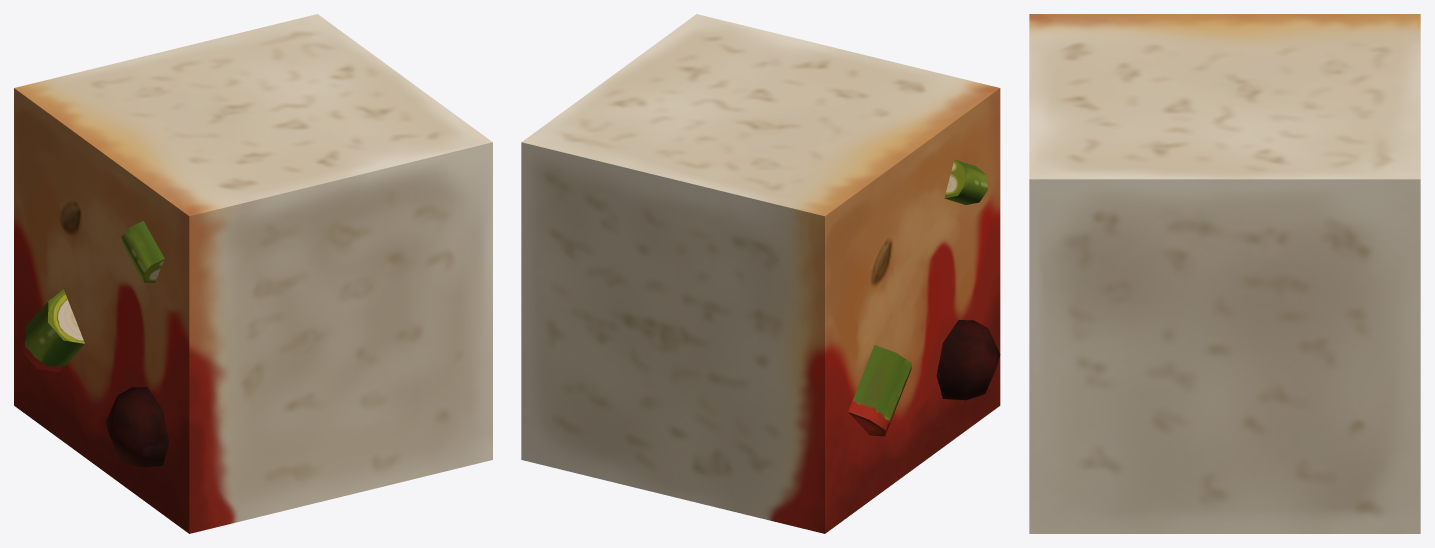
File: Bullet.FBX
3 views of the same model, side by side, from view 1: azimuth 30°, elevation 25°; view 2: azimuth 150°, elevation 25°; view 3: azimuth 270°, elevation 25° (orthographic). The views are drawn at different scales.
Parts seen in each view (by area): view 1: Box001; view 2: Box001; view 3: Box001.
Boxes of the visible parts, x1,y1,x2,y2 form: Box001: (14,14,492,533); Box001: (521,14,1000,533); Box001: (1029,14,1420,533).
Bounding box in the file's own units: 0.0787 × 0.07 × 0.07.
